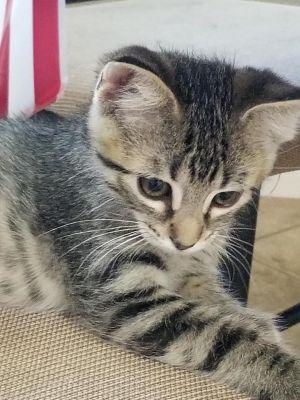bengal: (85, 36, 300, 257)
